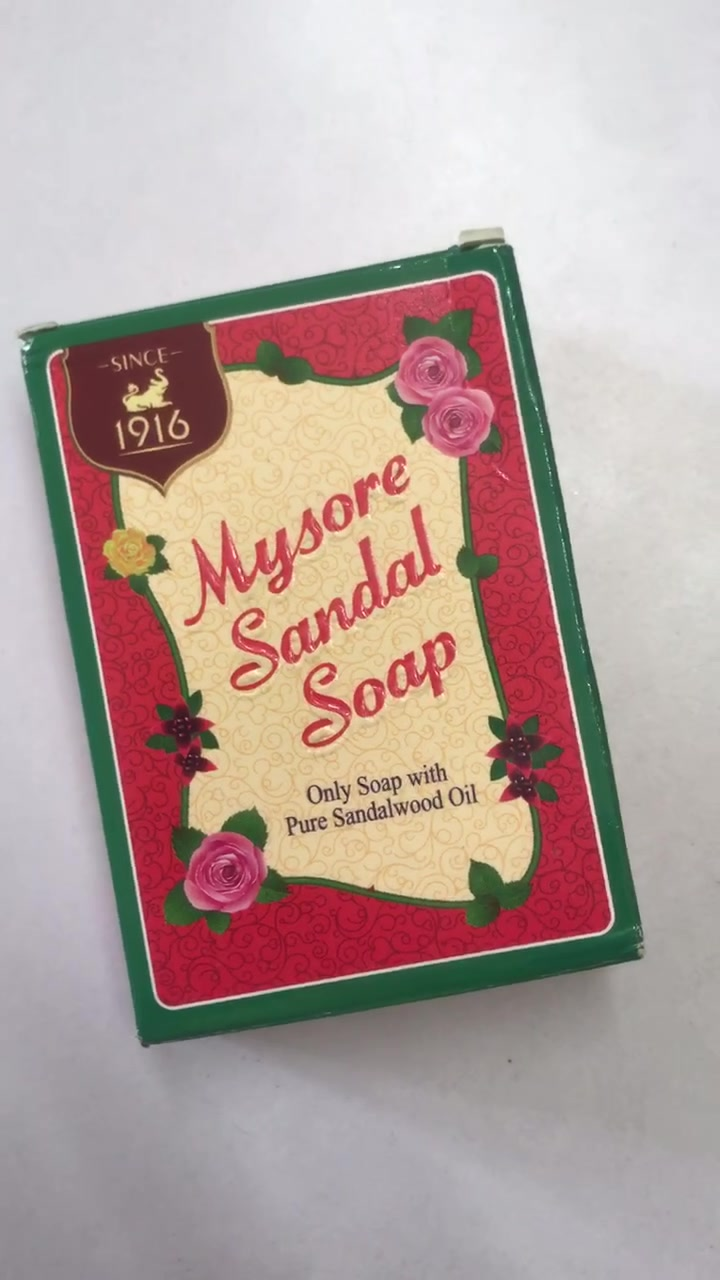mysore sandal soap: (24, 243, 641, 1043)
